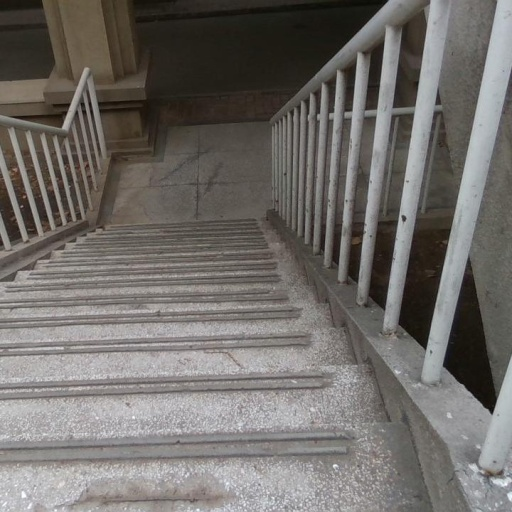Stairs: (0, 215, 446, 512)
